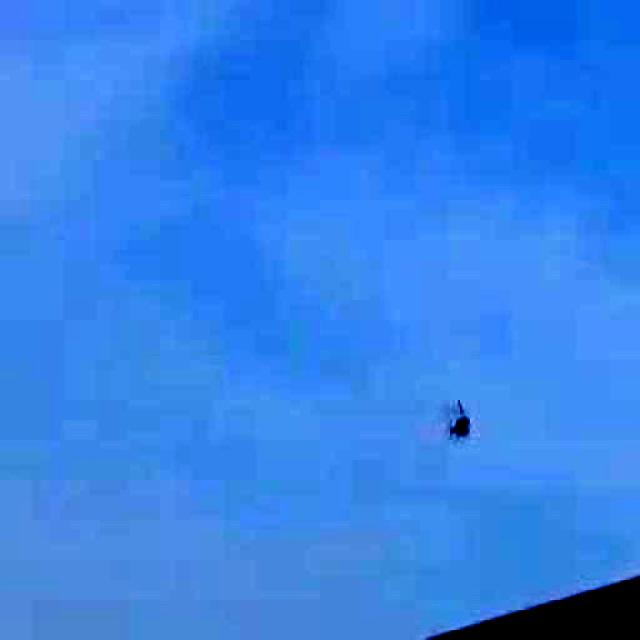drone: (431, 380, 492, 464)
